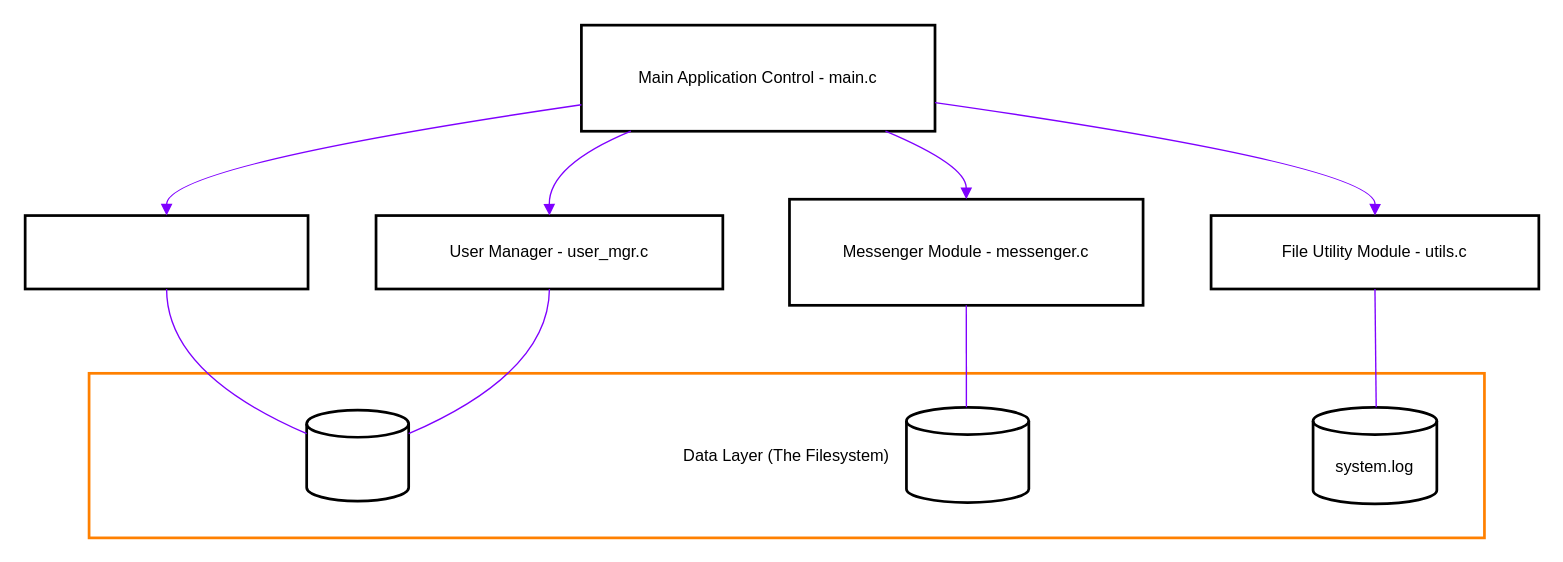
The diagram is 1563 pixels wide and 562 high, and some of its shapes have lost their labels. Here are the shapes that lost their labels. From the top down, the centre of each, then its label:
At pixel 166 252: "Auth Module - auth.c".
At pixel 357 455: "users.txt".
At pixel 967 454: "inbox_*.txt".
